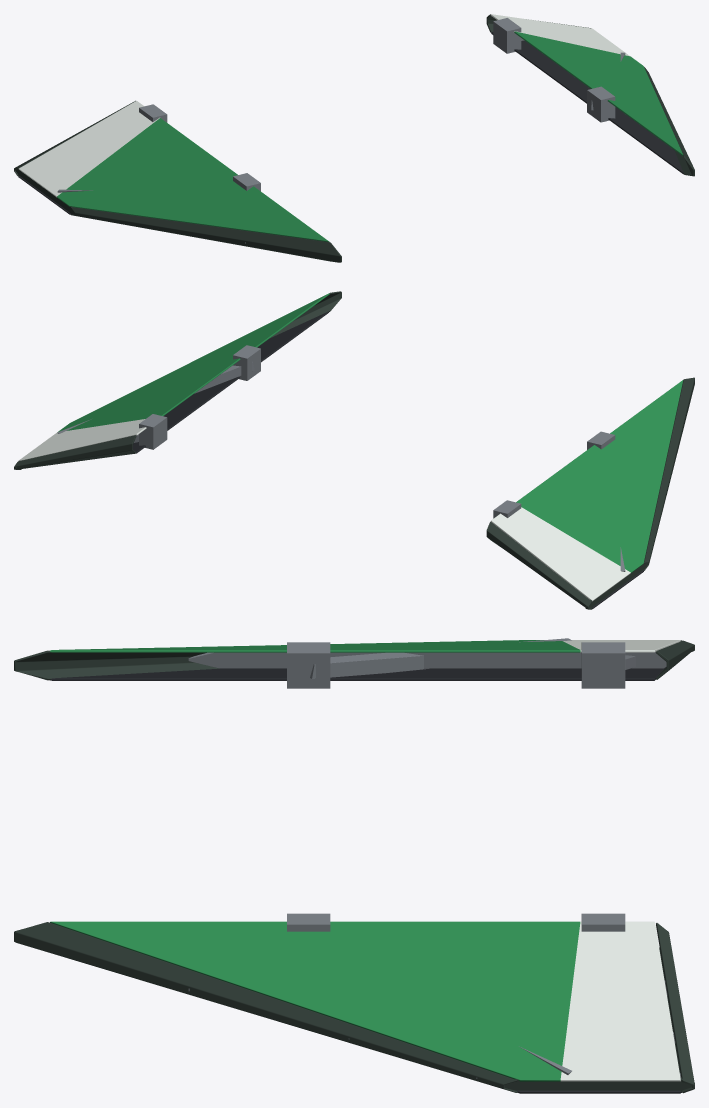
File: wraith_wing_stock.fbx
3 renders of one model, top to bottom at view 1: azimuth 30°, elevation 25°; view 2: azimuth 150°, elevation 25°; view 3: azimuth 270°, elevation 25°, orthographic. The views are drawn at different scales.
Parts seen in each view (by area): view 1: Wing_Top_L, Wing_Top_R, Wing_LE_L, Wing_Bottom_R, Wing_Structure_R, Wing_Structure_L, Wing_LE_R; view 2: Wing_Top_L, Wing_Top_R, Wing_Structure_R, Wing_Bottom_R, Wing_LE_L, Wing_TE_R, Wing_TE_L, Wing_Structure_L, Wing_LE_R; view 3: Wing_Top_R, Wing_LE_R, Wing_Structure_L, Wing_Bottom_L, Wing_Top_L, Wing_LE_L, Wing_TE_R, Wing_Structure_R, Wing_Tip_R.
Boxes of the visible parts, left/top/right/bottom form: Wing_Top_L: left=19, top=100, right=329, bottom=241; Wing_Top_R: left=490, top=14, right=683, bottom=155; Wing_LE_L: left=70, top=207, right=341, bottom=262; Wing_Bottom_R: left=491, top=32, right=683, bottom=174; Wing_Structure_R: left=493, top=18, right=625, bottom=122; Wing_Structure_L: left=57, top=104, right=260, bottom=243; Wing_LE_R: left=644, top=67, right=694, bottom=176; Wing_Top_L: left=490, top=380, right=683, bottom=601; Wing_Top_R: left=18, top=293, right=329, bottom=460; Wing_Structure_R: left=57, top=345, right=260, bottom=449; Wing_Bottom_R: left=132, top=312, right=328, bottom=453; Wing_LE_L: left=644, top=377, right=694, bottom=570; Wing_TE_R: left=14, top=435, right=136, bottom=469; Wing_TE_L: left=486, top=522, right=592, bottom=609; Wing_Structure_L: left=493, top=431, right=651, bottom=571; Wing_LE_R: left=270, top=291, right=341, bottom=337; Wing_Top_R: left=50, top=921, right=680, bottom=1081; Wing_LE_R: left=14, top=922, right=518, bottom=1092; Wing_Structure_L: left=188, top=638, right=666, bottom=688; Wing_Bottom_L: left=50, top=667, right=665, bottom=680; Wing_Top_L: left=50, top=640, right=680, bottom=652; Wing_LE_L: left=14, top=650, right=219, bottom=680; Wing_TE_R: left=656, top=923, right=694, bottom=1093; Wing_Structure_R: left=188, top=913, right=681, bottom=1078; Wing_Tip_R: left=504, top=1078, right=694, bottom=1092.
Size of the model in its own units: 240 by 22.95 by 157.
